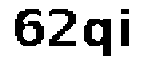2: (46, 8, 78, 49)
6: (13, 7, 44, 47)
i: (117, 7, 135, 53)
q: (80, 14, 114, 60)
